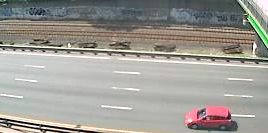car: (181, 104, 233, 132)
